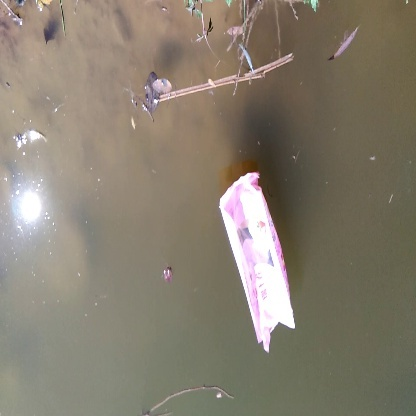plastic-bag: (213, 169, 298, 351)
